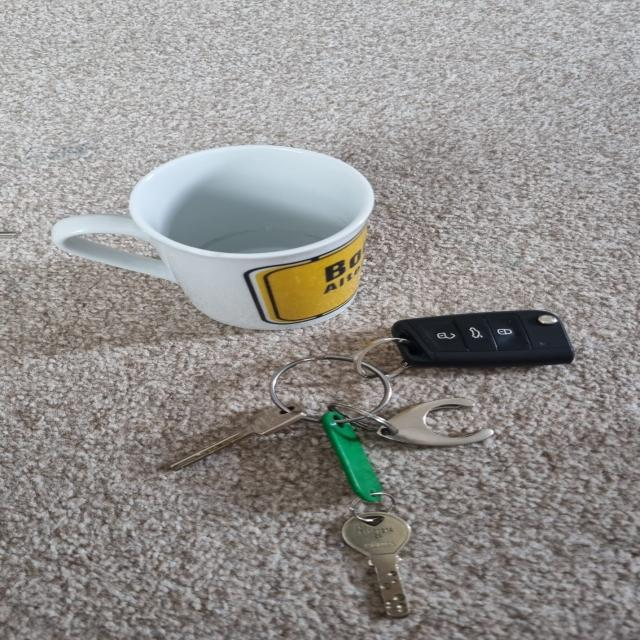Cup: (52, 146, 375, 334)
Key: (159, 401, 306, 474), (340, 510, 417, 623)
